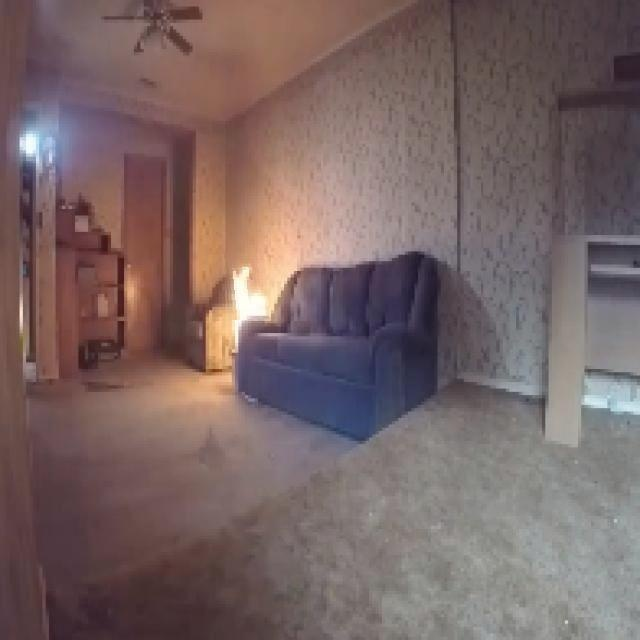fire: (223, 259, 276, 340)
